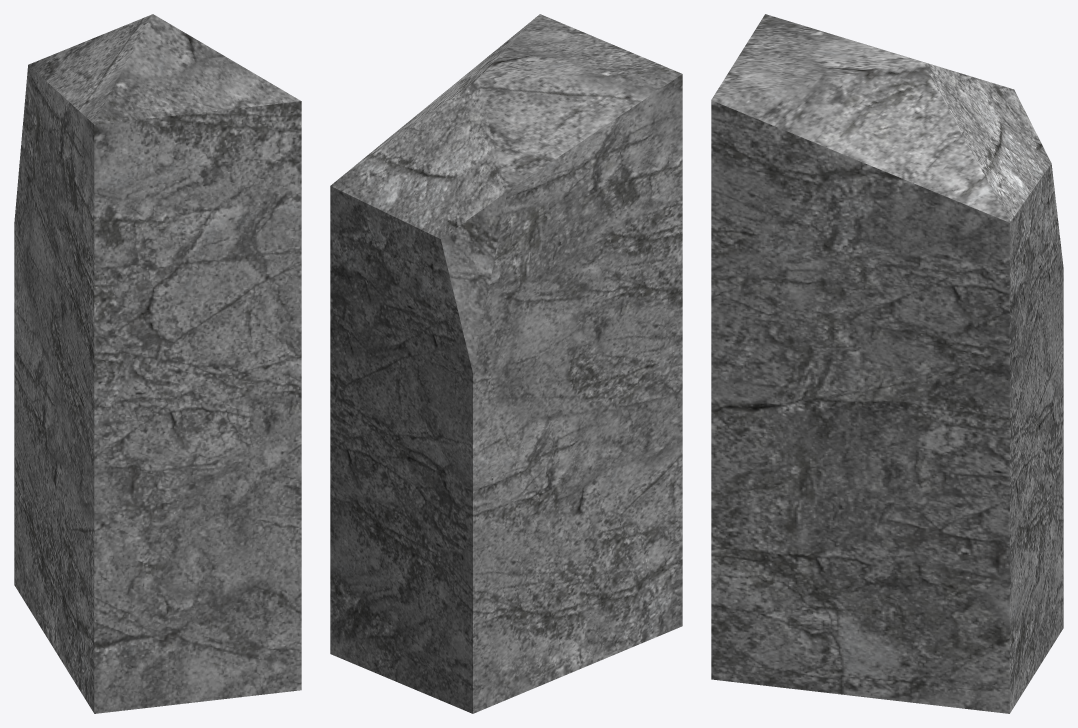
Rendered from materials_3_rubble_12.fbx.
3 renders of one model, left to right at view 1: azimuth 30°, elevation 25°; view 2: azimuth 150°, elevation 25°; view 3: azimuth 270°, elevation 25°, orthographic. The views are drawn at different scales.
Parts seen in each view (by area): view 1: materials_3_rubble_12; view 2: materials_3_rubble_12; view 3: materials_3_rubble_12.
Boxes of the visible parts, x1,y1,x2,y2 form: materials_3_rubble_12: [14, 14, 301, 713]; materials_3_rubble_12: [330, 14, 682, 713]; materials_3_rubble_12: [711, 14, 1063, 713].
Bounding box in the file's own units: 37.79 × 87.31 × 46.68.
